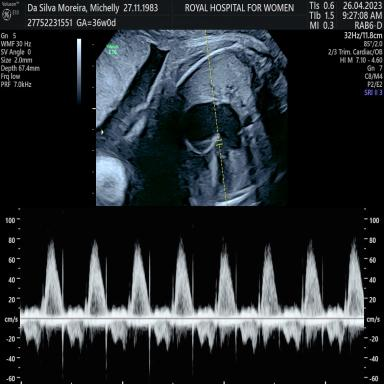Ultrasound-Waves: (24, 216, 364, 384)
